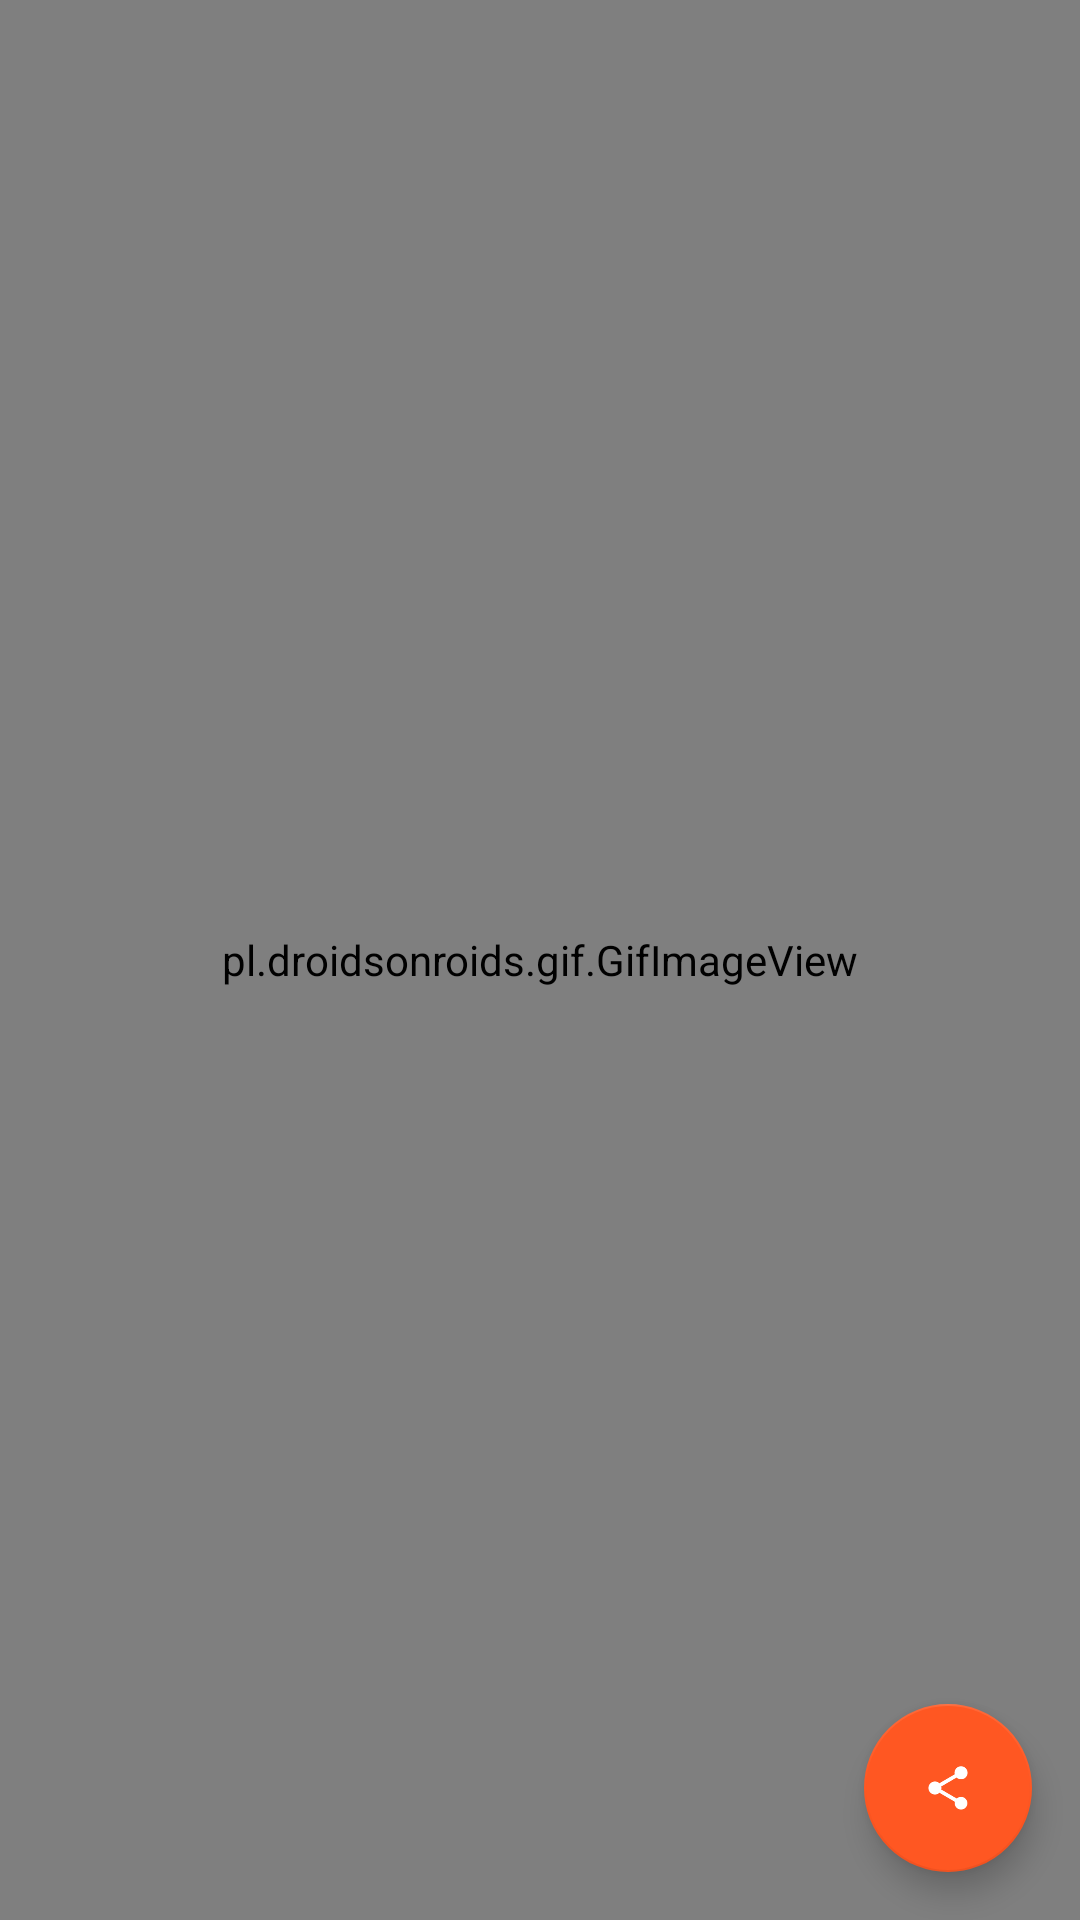

Screen size 1080x1920. Icon name, then its box in pixels as box(x1, y1, x2, y2):
social share: box(864, 1704, 1032, 1872)
